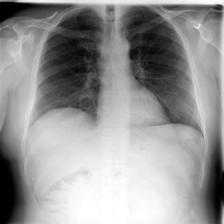normal: (27, 6, 207, 145)
